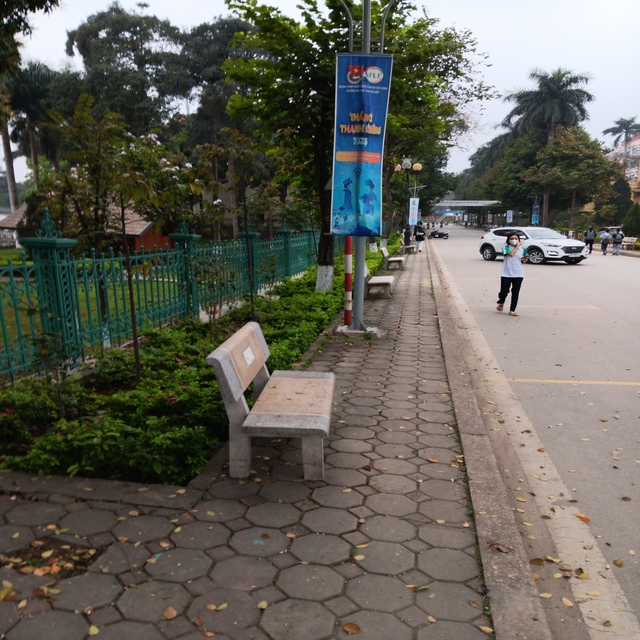gheda: (196, 317, 357, 492), (359, 260, 398, 305), (377, 238, 407, 273)
